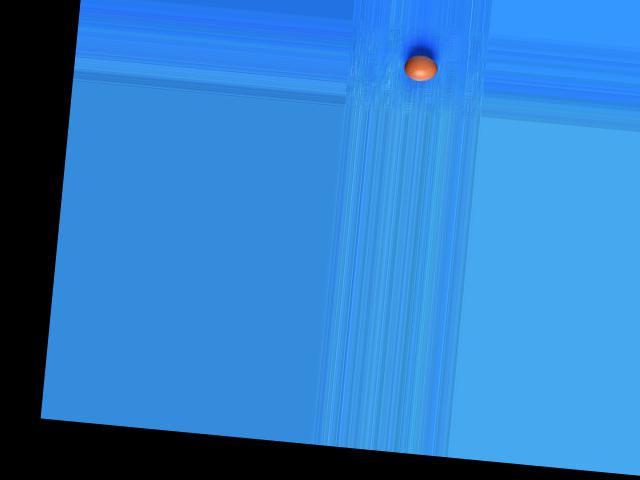egg: (403, 52, 438, 82)
